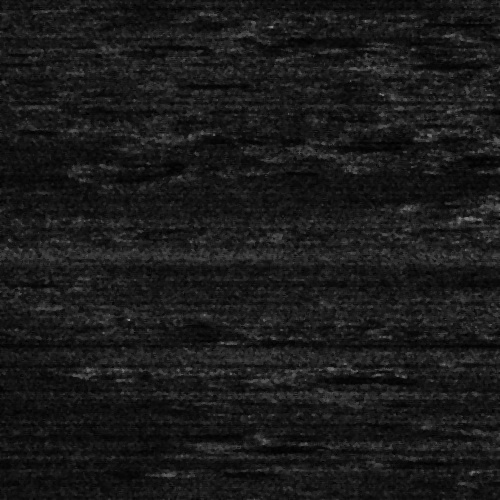object: (220, 374, 355, 383), (127, 469, 210, 476), (349, 456, 412, 465), (100, 42, 173, 49), (458, 195, 500, 206), (465, 337, 500, 350), (197, 442, 260, 449), (446, 427, 500, 434), (126, 80, 179, 85)
shadow: (288, 374, 395, 383), (228, 442, 331, 449), (137, 42, 215, 49), (381, 456, 440, 465), (168, 469, 234, 476), (153, 80, 233, 85), (0, 127, 45, 132), (478, 427, 500, 434)
